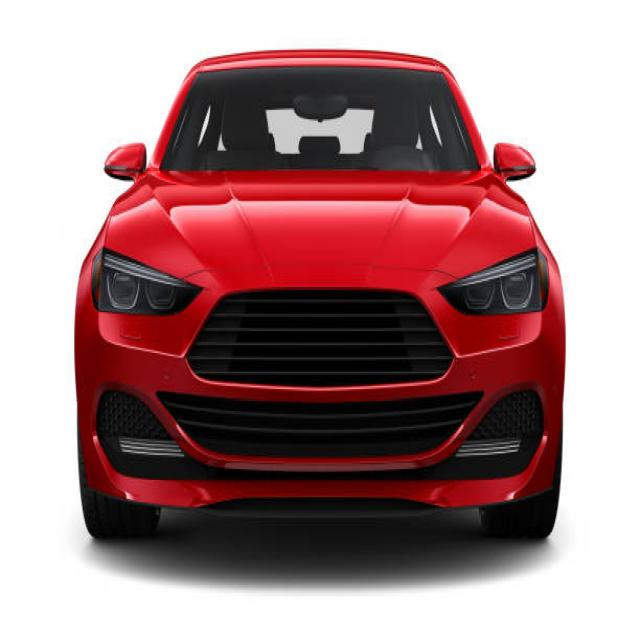yolov7-seg-car: (74, 48, 566, 543)
